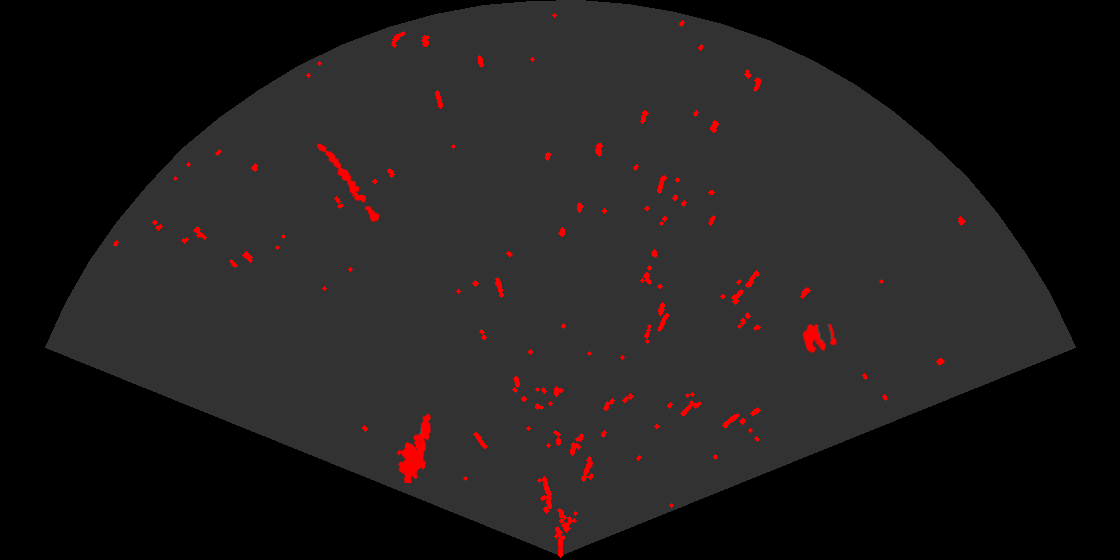ball: (801, 322, 839, 355)
chain: (315, 142, 381, 224)
frogman: (395, 412, 432, 483)
